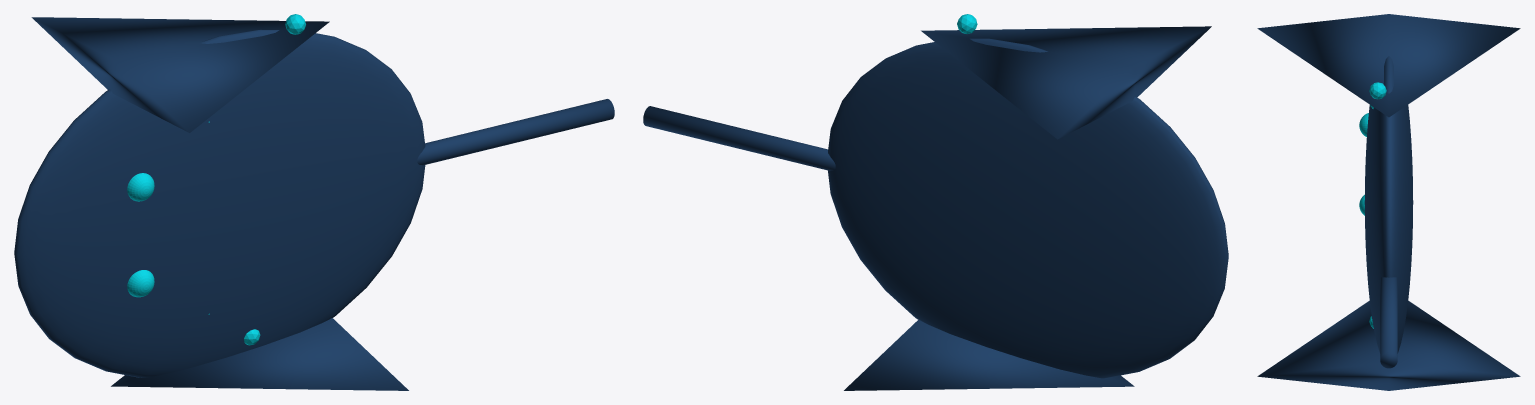
Rendered from 11_arraiao_abissal.obj.
3 views of the same model, side by side, from view 1: azimuth 30°, elevation 25°; view 2: azimuth 150°, elevation 25°; view 3: azimuth 270°, elevation 25° (orthographic). The views are drawn at different scales.
Visible parts, largest first — view 1: Sphere, Cone, Cone.001, Cylinder, Sphere.001, Sphere.002; view 2: Sphere, Cone, Cone.001, Cylinder; view 3: Cone, Cone.001, Sphere, Cylinder, Icosphere.002.
Boxes of the visible parts, box(x1,y1,x2,y2) form: Sphere: box(14, 30, 425, 377); Cone: box(31, 17, 329, 132); Cone.001: box(111, 318, 408, 390); Cylinder: box(417, 99, 614, 165); Sphere.001: box(127, 173, 154, 201); Sphere.002: box(127, 270, 154, 297); Sphere: box(828, 38, 1228, 378); Cone: box(921, 26, 1211, 139); Cone.001: box(844, 319, 1134, 390); Cylinder: box(643, 106, 835, 170); Cone: box(1257, 14, 1520, 117); Cone.001: box(1257, 301, 1520, 390); Sphere: box(1364, 56, 1413, 353); Cylinder: box(1380, 277, 1397, 368); Icosphere.002: box(1369, 82, 1386, 99).
Bounding box in the file's own units: 5.2 × 2.96 × 2.4.
Materials: 12 (12 with a texture image).
